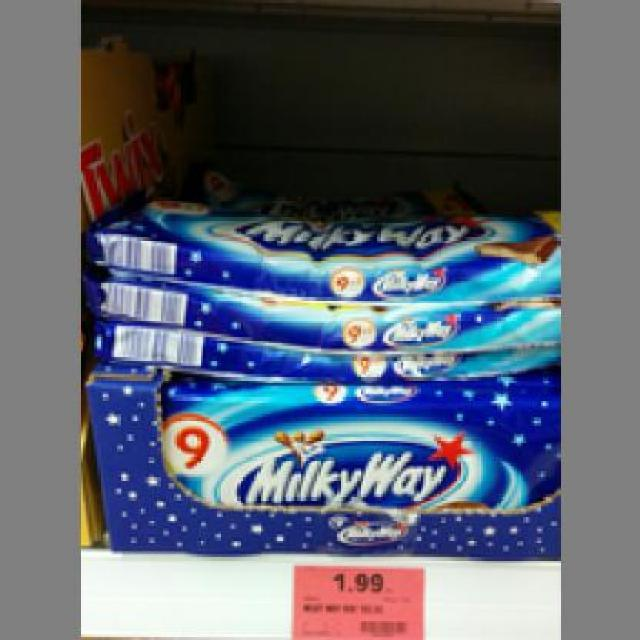Chocolate bar: (83, 183, 548, 306), (154, 376, 557, 510), (97, 306, 552, 380)
